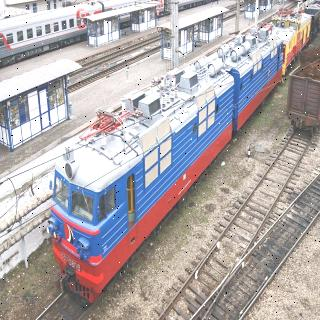poezd: (54, 23, 283, 294)
